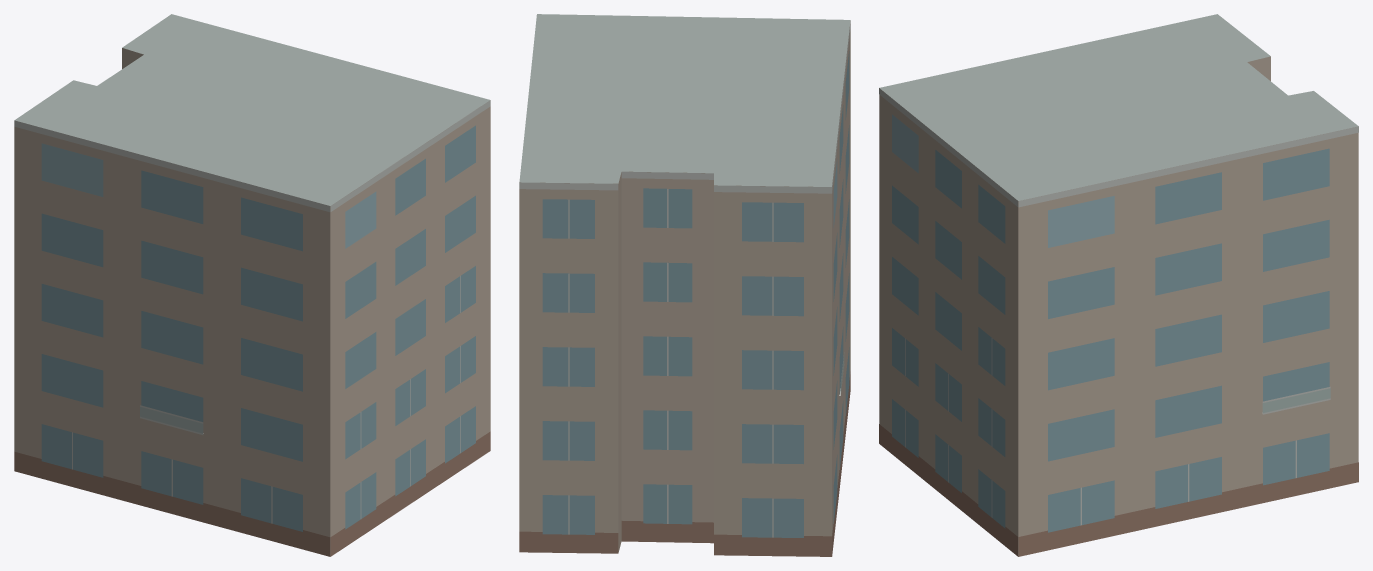
Rendered from survey-upis-32841217.glb.
The picture shows the model from 3 angles, left to right: view 1: azimuth 30°, elevation 25°; view 2: azimuth 150°, elevation 25°; view 3: azimuth 270°, elevation 25°; orthographic projection. The views are drawn at different scales.
Parts seen in each view (by area): view 1: survey-upis-32841217.tmp; view 2: survey-upis-32841217.tmp; view 3: survey-upis-32841217.tmp.
Part boxes in pixels (<box>): survey-upis-32841217.tmp: <box>14,14,490,556</box>; survey-upis-32841217.tmp: <box>519,14,850,556</box>; survey-upis-32841217.tmp: <box>879,14,1358,556</box>.
Bounding box in the file's own units: 15.35 × 13.6 × 16.63.
